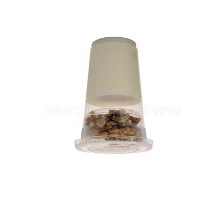glass: (67, 32, 159, 158)
